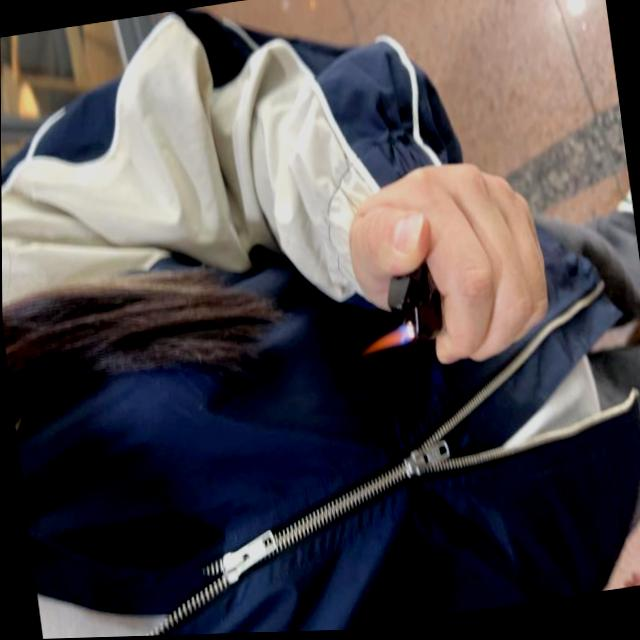helmet: (356, 325, 408, 360)
